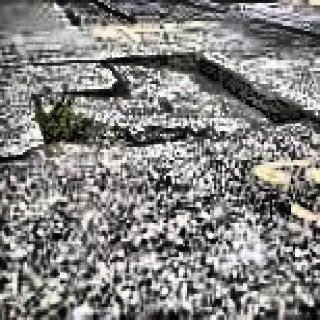pothole: (0, 50, 320, 160)
